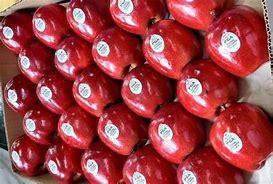apple: (213, 98, 272, 167), (130, 20, 204, 68), (173, 60, 238, 114), (208, 10, 271, 65), (144, 105, 203, 157), (30, 71, 89, 120), (92, 28, 143, 75), (120, 64, 167, 110), (106, 0, 167, 35), (44, 141, 91, 184), (174, 153, 237, 184), (93, 109, 143, 148), (12, 44, 61, 83), (10, 140, 56, 180), (125, 156, 188, 184), (81, 148, 129, 184), (57, 106, 98, 145), (71, 70, 114, 106), (31, 8, 73, 43), (66, 4, 110, 36), (2, 13, 35, 52), (5, 79, 38, 113), (51, 37, 87, 65), (21, 112, 57, 139)
